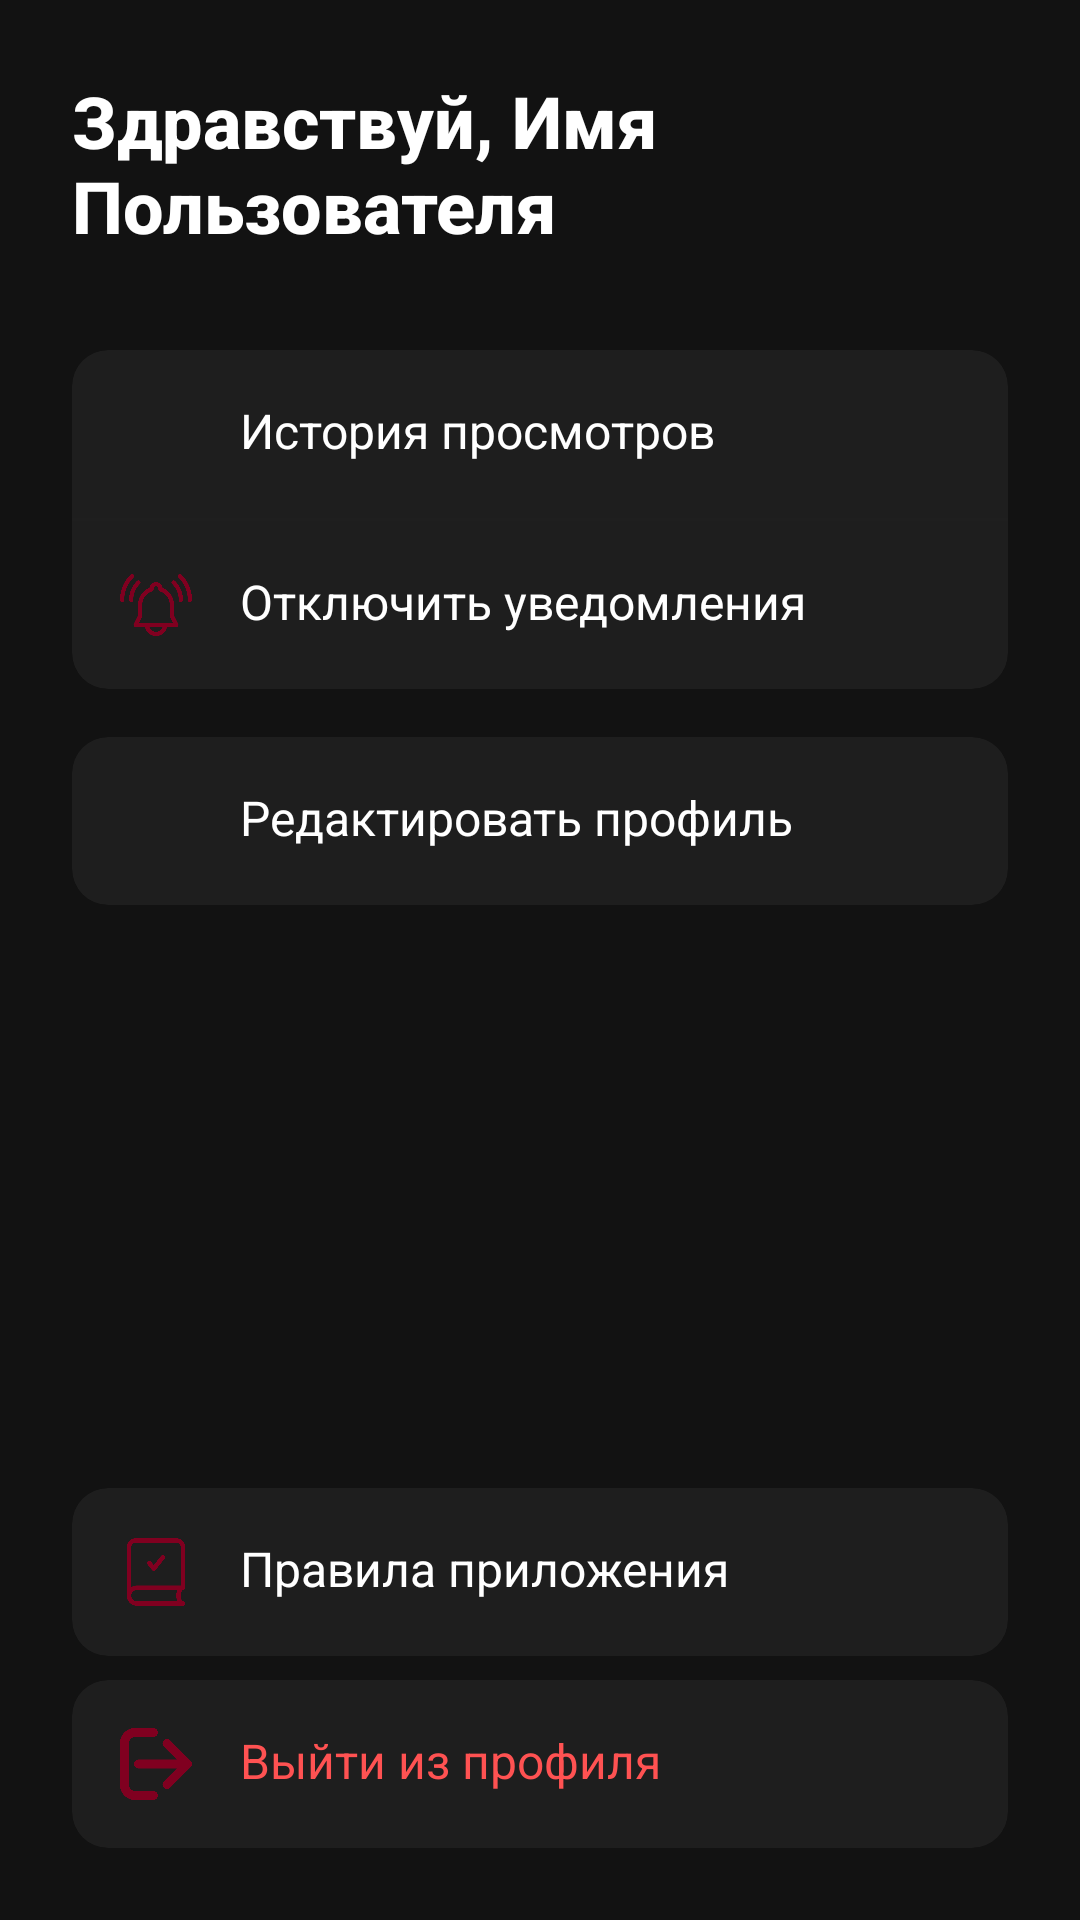

Where icons sit on this 1080x1920 app screen, as (x1, y1, x2, y2):
notifications: (120, 574, 192, 636)
rules: (127, 1538, 185, 1606)
